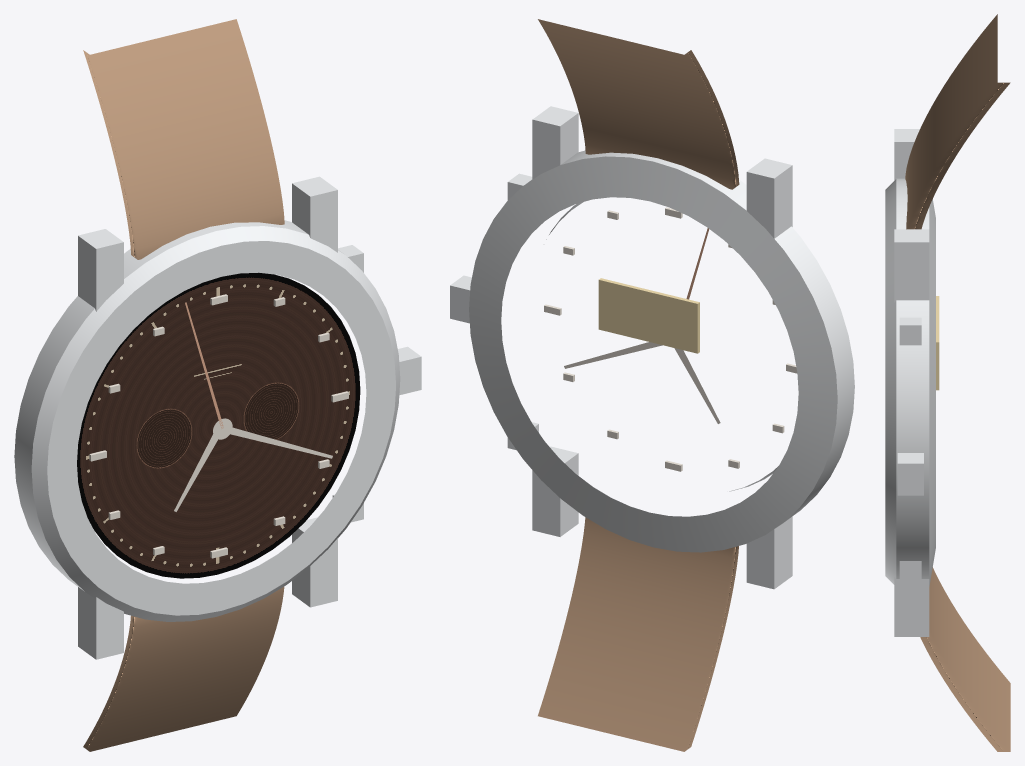
The model's file is hedra-11.glb.
The picture shows the model from 3 angles, left to right: view 1: azimuth 30°, elevation 25°; view 2: azimuth 150°, elevation 25°; view 3: azimuth 270°, elevation 25°; orthographic projection. The views are drawn at different scales.
Parts seen in each view (by area): view 1: WatchMesh; view 2: WatchMesh; view 3: WatchMesh.
Boxes of the visible parts, box(x1,y1,x2,y2) form: WatchMesh: box(14, 19, 421, 751); WatchMesh: box(450, 19, 854, 751); WatchMesh: box(885, 14, 1010, 751).
Size of the model in its own units: 1.97 by 3.36 by 0.58.
6 materials, 1 textured.
